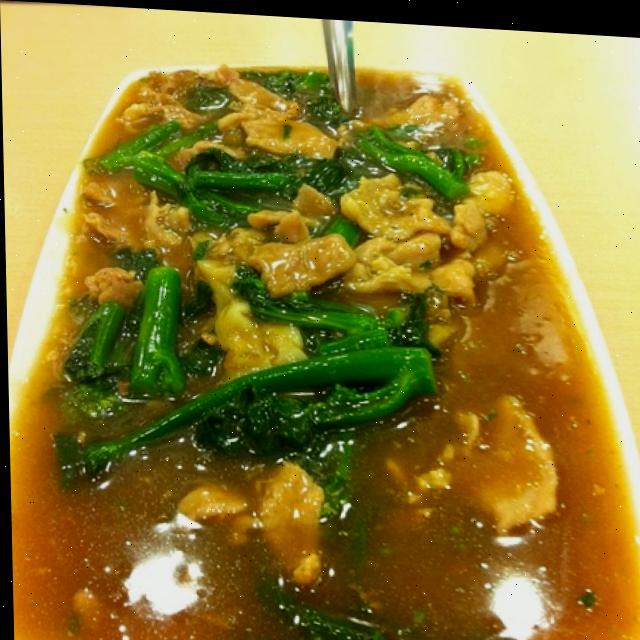面条主食: (1, 37, 629, 640)
